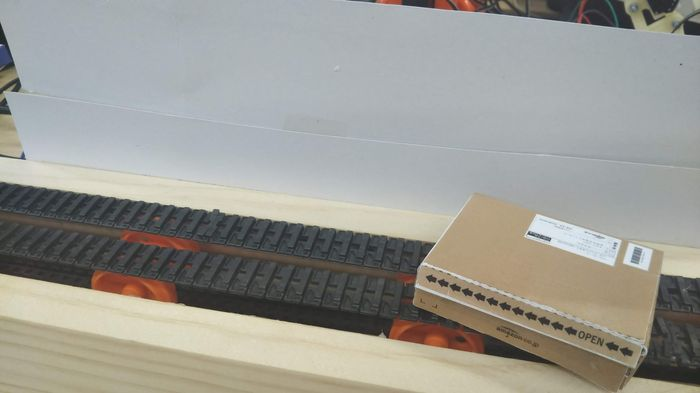box2: (412, 188, 664, 393)
